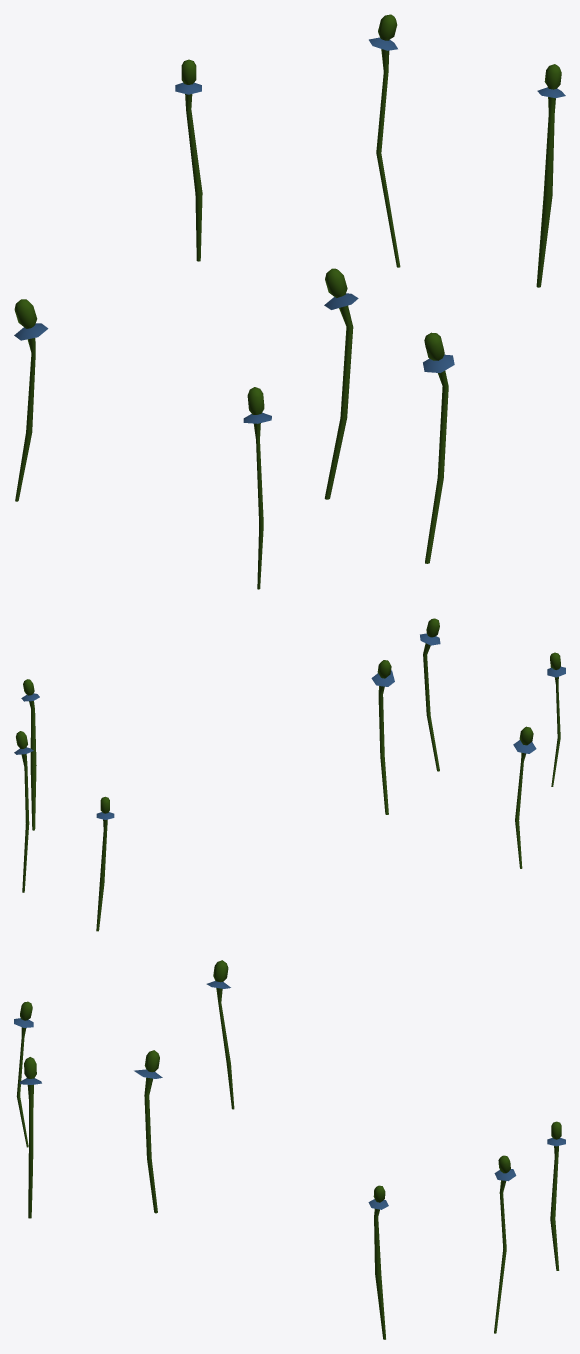
File: ParsiTendrilSpikes05.FBX
3 views of the same model, one above another, from view 1: azimuth 30°, elevation 25°; view 2: azimuth 150°, elevation 25°; view 3: azimuth 270°, elevation 25° (orthographic). The views are drawn at different scales.
Visible parts, largest first — view 1: parsiTendrilSpikes05_LOD0; view 2: parsiTendrilSpikes05_LOD0; view 3: parsiTendrilSpikes05_LOD0.
Boxes of the visible parts, x1,y1,x2,y2 form: parsiTendrilSpikes05_LOD0: (14, 14, 565, 589); parsiTendrilSpikes05_LOD0: (14, 618, 565, 931); parsiTendrilSpikes05_LOD0: (14, 960, 565, 1339).
Size of what is drawn, in the model's own units: 2.22 by 0.7988 by 2.26.
